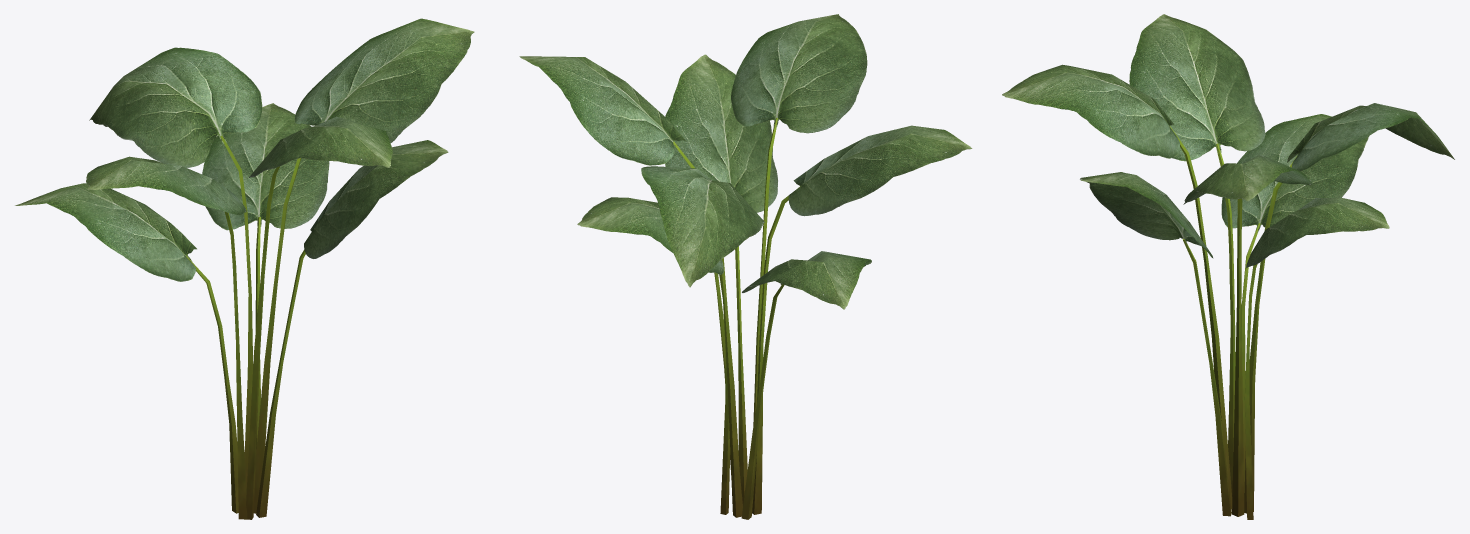
Rendered from D_Plant_010.fbx.
3 renders of one model, left to right at view 1: azimuth 30°, elevation 25°; view 2: azimuth 150°, elevation 25°; view 3: azimuth 270°, elevation 25°, orthographic. The views are drawn at different scales.
Visible parts, largest first — view 1: D_Plant_010; view 2: D_Plant_010; view 3: D_Plant_010.
Part boxes in pixels (bbox=[...]): D_Plant_010: bbox=[15, 18, 474, 519]; D_Plant_010: bbox=[519, 14, 972, 519]; D_Plant_010: bbox=[1002, 14, 1454, 519].
Bounding box in the file's own units: 2.04 × 2.01 × 1.86.
1 material, 1 textured.
